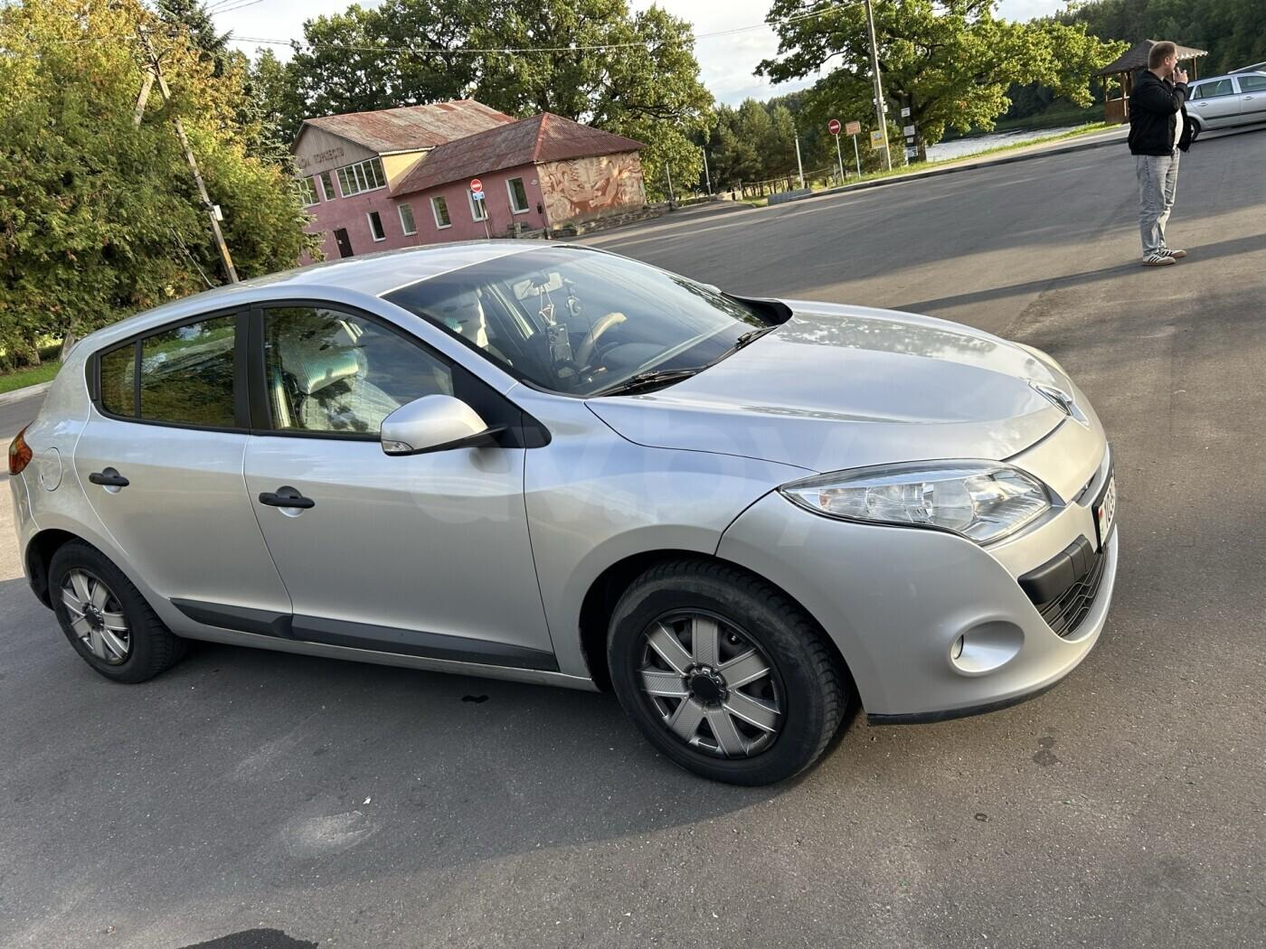Megane_2008-2014: (4, 236, 1130, 791)
